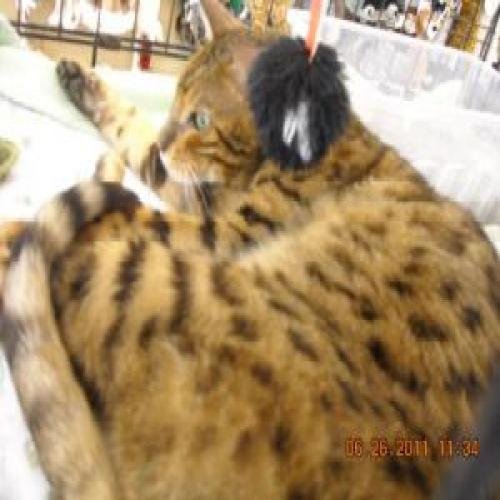cat-face: (155, 1, 282, 193)
